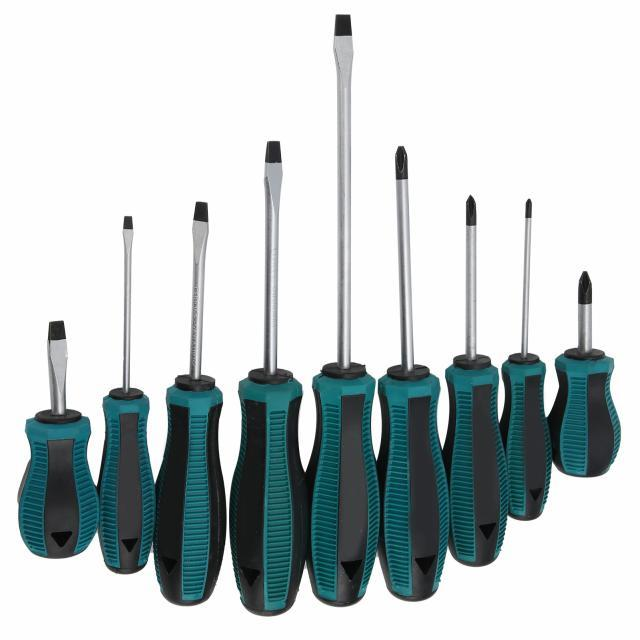screwdriver: (302, 0, 384, 613), (370, 142, 452, 610), (230, 139, 308, 618), (151, 200, 231, 610), (437, 192, 508, 568), (96, 211, 153, 585), (15, 315, 97, 566), (496, 182, 554, 522), (546, 264, 622, 480)
